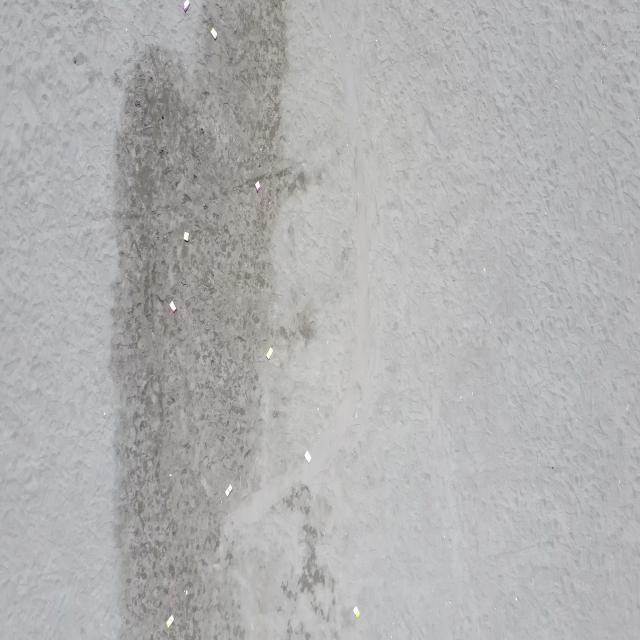retort-pouch: (225, 482, 234, 499), (166, 616, 175, 632), (265, 345, 273, 362), (169, 300, 177, 316), (210, 26, 218, 41), (182, 0, 190, 15), (304, 450, 312, 464), (183, 230, 190, 244), (352, 606, 360, 618), (255, 180, 261, 194)
